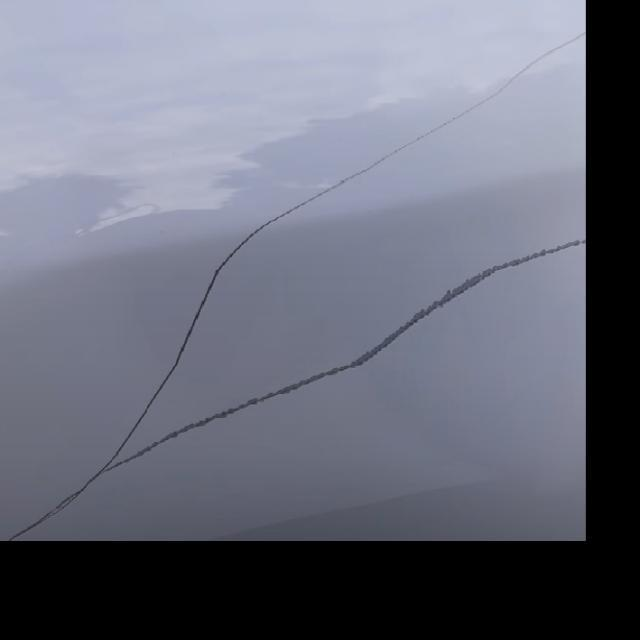crack: (172, 239, 610, 447), (170, 116, 380, 332)
